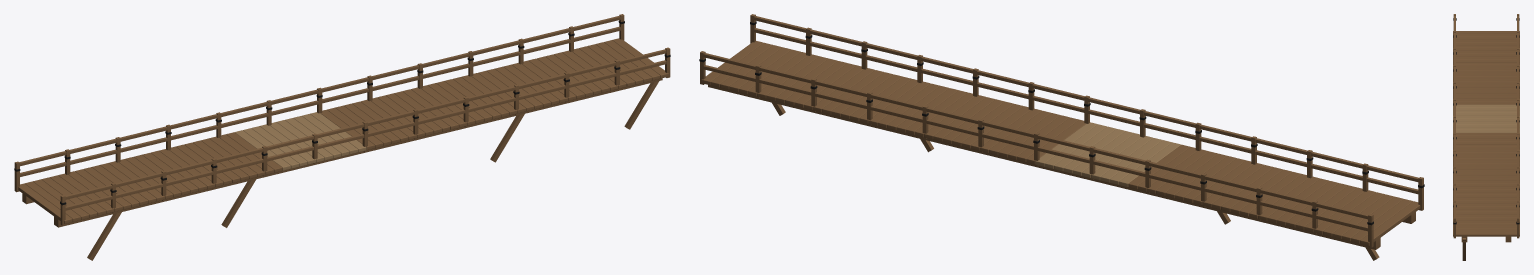
File: repaired_beech_bridge.glb
3 renders of one model, left to right at view 1: azimuth 30°, elevation 25°; view 2: azimuth 150°, elevation 25°; view 3: azimuth 270°, elevation 25°, orthographic. The views are drawn at different scales.
Parts seen in each view (by area): view 1: repaired_beech_bridge_painted_export; view 2: repaired_beech_bridge_painted_export; view 3: repaired_beech_bridge_painted_export.
Boxes of the visible parts, box(x1,y1,x2,y2) form: repaired_beech_bridge_painted_export: box(14, 14, 670, 260); repaired_beech_bridge_painted_export: box(699, 14, 1424, 260); repaired_beech_bridge_painted_export: box(1453, 14, 1519, 260).
Bounding box in the file's own units: 36.24 × 4.42 × 5.
